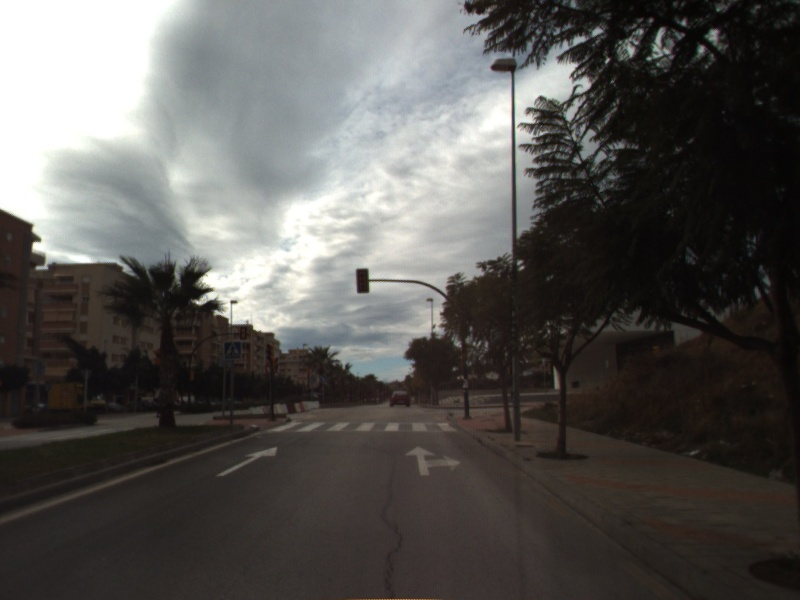STRAIGHT: (215, 445, 279, 478)
STRAIGHT_RIGHT: (403, 444, 463, 477)
